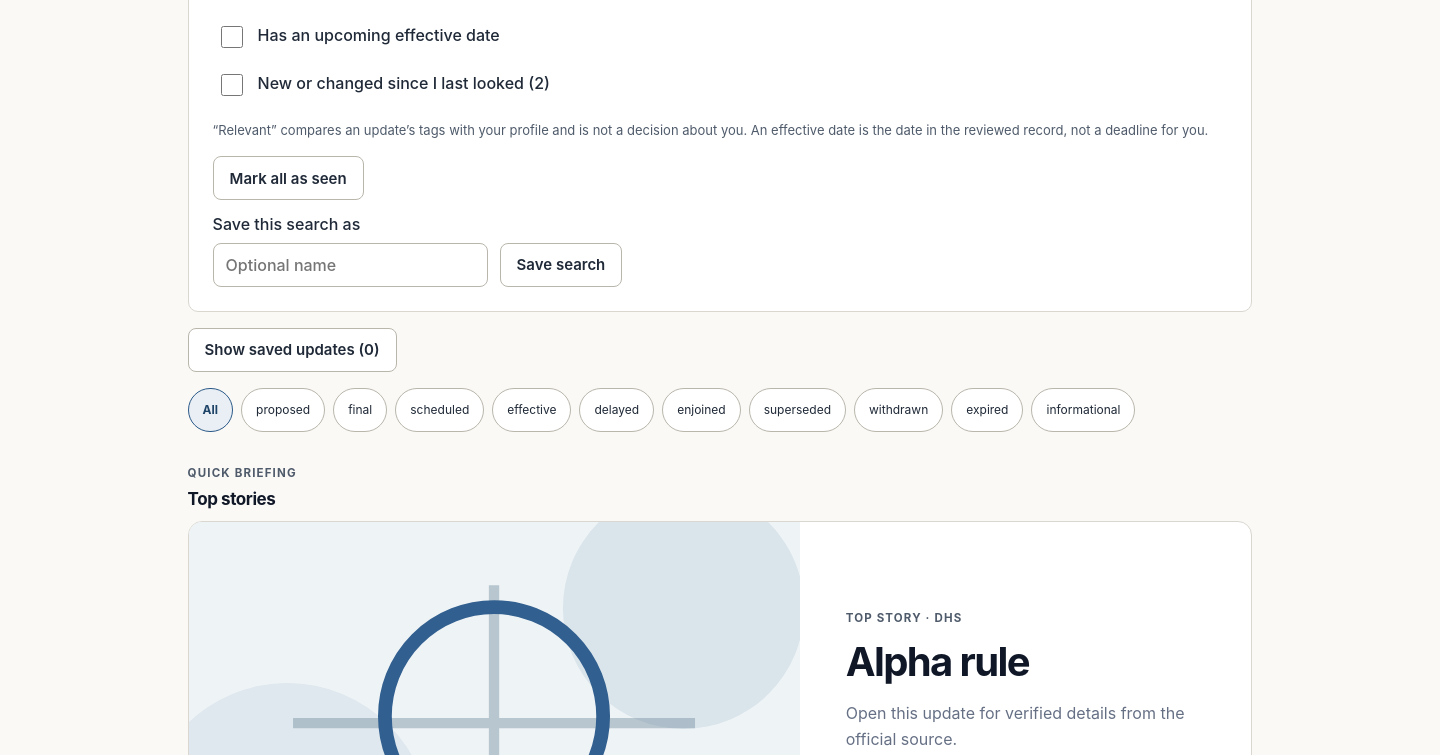
Test: says so when nothing is saved
(page scrolled)
Step 1. Click the button "Show saved updates (0)" → point(292, 350), box [188,328,397,372]
(page scrolled)
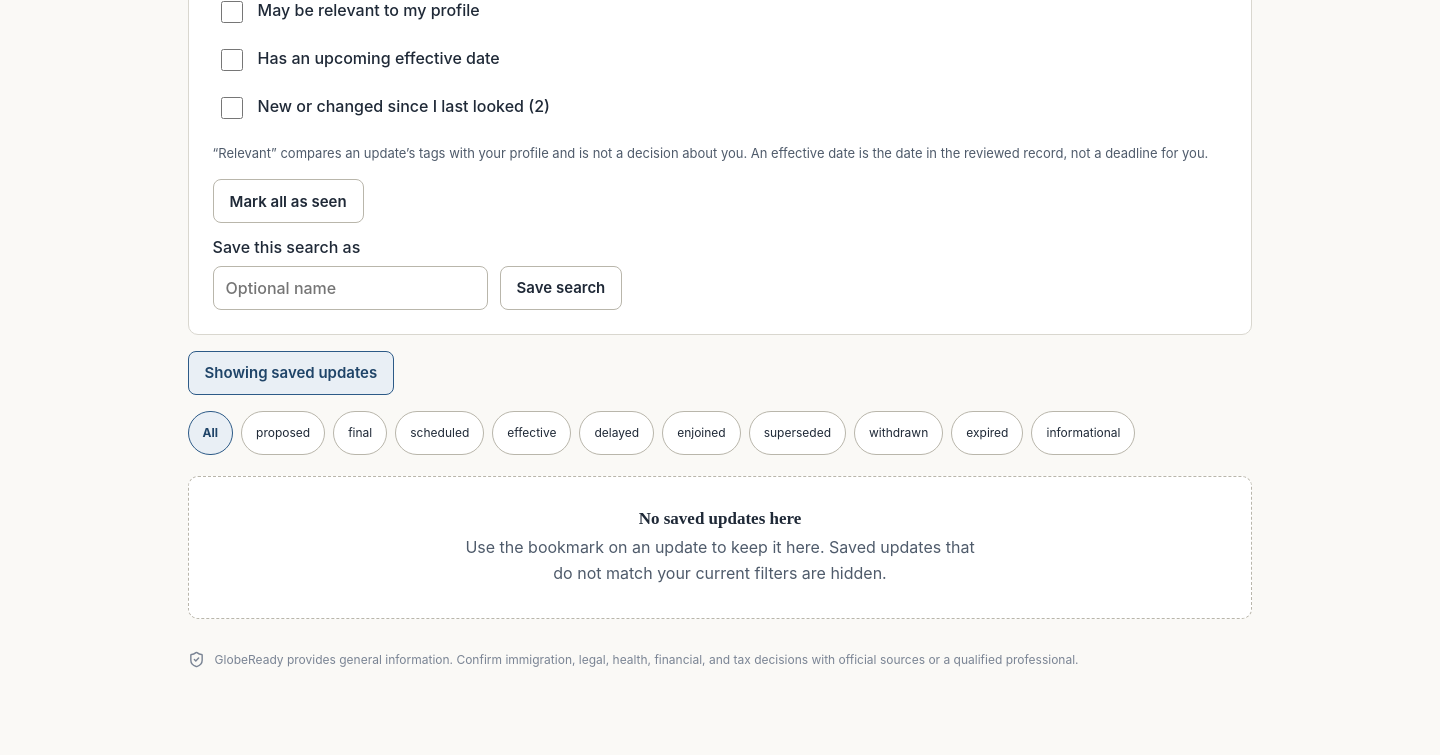
Expected: the heading "No saved updates here" is shown, [639,509,801,528]
